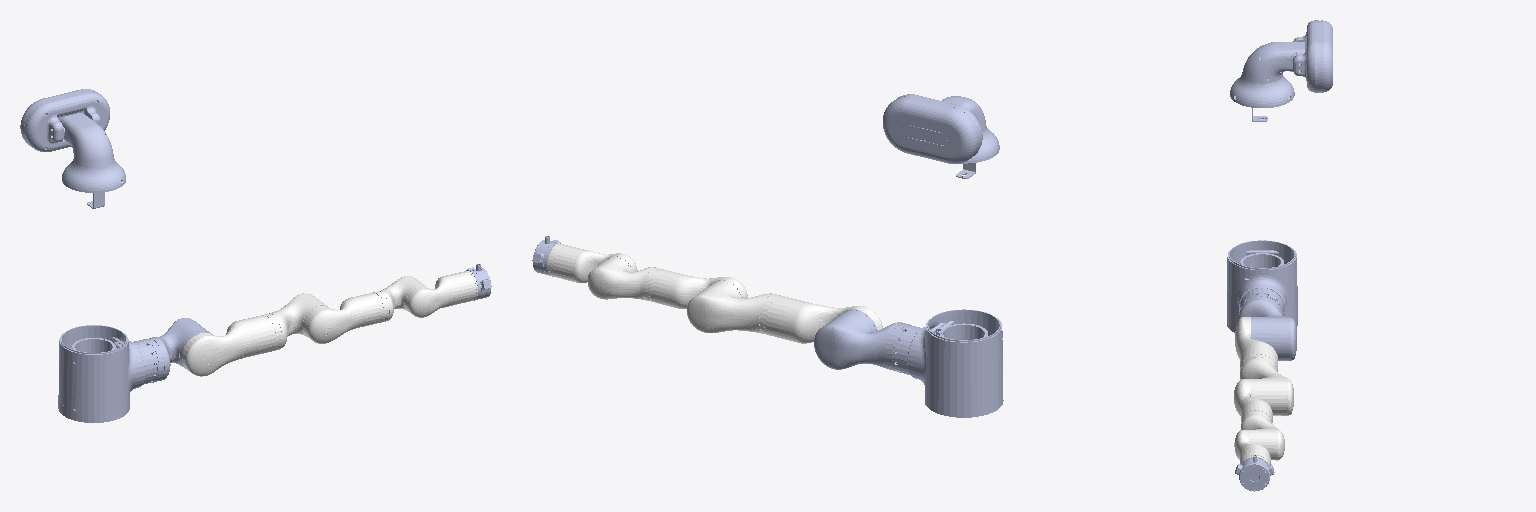
robot.urdf — rm_scr:
<?xml version="1.0" ?>
<!-- =================================================================================== -->
<!-- |    This document was autogenerated by xacro from /home/test/realman_ws/src/rm_scr_robot/rm_scr_description/urdf/rm_scr_description.urdf.xacro | -->
<!-- |    EDITING THIS FILE BY HAND IS NOT RECOMMENDED                                 | -->
<!-- =================================================================================== -->
<robot name="rm_scr">
    <link name="base_link_agv">
        <inertial>
            <origin rpy="0 0 0" xyz="-7.4455E-05 0.010453 0.10719" />
            <mass value="70" />
            <inertia ixx="0.094754" ixy="7.7604E-05" ixz="-9.8149E-05" iyy="0.096474" iyz="-0.0019299" izz="0.16261" />
        </inertial>
        <visual>
            <origin rpy="0 0 0" xyz="0 0 0" />
            <geometry>
                <mesh filename="package://rm_scr_description/meshes/base_link_agv.STL" />
            </geometry>
            <material name="">
                <color rgba="1 1 1 1" />
            </material>
        </visual>
        <collision>
            <origin rpy="0 0 0" xyz="0 0 0" />
            <geometry>
                <mesh filename="package://rm_scr_description/meshes/base_link_agv.STL" />
            </geometry>
        </collision>
    </link>
    <link name="baselink_body">
        <inertial>
            <origin rpy="0 0 0" xyz="-0.0019768 0.004672 0.30125" />
            <mass value="2.581" />
            <inertia ixx="0.05009" ixy="1.8262E-05" ixz="0.0003821" iyy="0.057064" iyz="-4.8542E-06" izz="0.016176" />
        </inertial>
        <visual>
            <origin rpy="0 0 0" xyz="0 0 0" />
            <geometry>
                <mesh filename="package://rm_scr_description/meshes/baselink_body.STL" />
            </geometry>
            <material name="">
                <color rgba="0.79216 0.81961 0.93333 1" />
            </material>
        </visual>
        <collision>
            <origin rpy="0 0 0" xyz="0 0 0" />
            <geometry>
                <mesh filename="package://rm_scr_description/meshes/baselink_body.STL" />
            </geometry>
        </collision>
    </link>
    <joint name="joint_fixed_body" type="fixed">
        <origin rpy="0 0 0" xyz="0 0 0.2791" />
        <parent link="base_link_agv" />
        <child link="baselink_body" />
        <axis xyz="0 0 0" />
    </joint>
    <link name="link_arm_rotary">
        <inertial>
            <origin rpy="0 0 0" xyz="-0.026988 -0.0010423 -0.00059756" />
            <mass value="0.31825" />
            <inertia ixx="0.00019457" ixy="-1.4002E-05" ixz="-8.0276E-06" iyy="0.00027255" iyz="-1.9841E-06" izz="0.00027487" />
        </inertial>
        <visual>
            <origin rpy="0 0 0" xyz="0 0 0" />
            <geometry>
                <mesh filename="package://rm_scr_description/meshes/link_arm_rotary.STL" />
            </geometry>
            <material name="">
                <color rgba="0.50196 0.50196 0.50196 1" />
            </material>
        </visual>
        <collision>
            <origin rpy="0 0 0" xyz="0 0 0" />
            <geometry>
                <mesh filename="package://rm_scr_description/meshes/link_arm_rotary.STL" />
            </geometry>
        </collision>
    </link>
    <joint name="joint_arm_rotary" type="revolute">
        <origin rpy="0.0074999 1.5708 0" xyz="0 0 0.489" />
        <parent link="baselink_body" />
        <child link="link_arm_rotary" />
        <axis xyz="-1 0 0" />
        <limit effort="100" lower="-1.3" upper="1.3" velocity="1" />
        <dynamics damping="50" friction="1" />
    </joint>
    <link name="link_arm_connector">
        <inertial>
            <origin rpy="0 0 0" xyz="0.0011319 0.00023344 0.04223" />
            <mass value="0.425" />
            <inertia ixx="0.0011766" ixy="1.2008E-06" ixz="1.7955E-05" iyy="0.0014259" iyz="-1.0264E-05" izz="0.00079079" />
        </inertial>
        <visual>
            <origin rpy="0 0 0" xyz="0 0 0" />
            <geometry>
                <mesh filename="package://rm_scr_description/meshes/link_arm_connector.STL" />
            </geometry>
            <material name="">
                <color rgba="0.79216 0.81961 0.93333 1" />
            </material>
        </visual>
        <collision>
            <origin rpy="0 0 0" xyz="0 0 0" />
            <geometry>
                <mesh filename="package://rm_scr_description/meshes/link_arm_connector.STL" />
            </geometry>
        </collision>
    </link>
    <joint name="fixed_arm_connector" type="fixed">
        <origin rpy="0.0096722 0 0" xyz="-0.065 0.00021859 -0.022599" />
        <parent link="link_arm_rotary" />
        <child link="link_arm_connector" />
        <axis xyz="0 0 0" />
    </joint>
    <link name="arm_link1">
        <inertial>
            <origin rpy="0 0 0" xyz="2.8044E-07 0.021108 -0.025186" />
            <mass value="0.59356" />
            <inertia ixx="0.0012661" ixy="-1.0792E-08" ixz="-8.0898E-09" iyy="0.0011817" iyz="-0.00021122" izz="0.00056135" />
        </inertial>
        <visual>
            <origin rpy="0 0 0" xyz="0 0 0" />
            <geometry>
                <mesh filename="package://rm_scr_description/meshes/arm_link1.STL" />
            </geometry>
            <material name="">
                <color rgba="0.79216 0.81961 0.93333 1" />
            </material>
        </visual>
        <collision>
            <origin rpy="0 0 0" xyz="0 0 0" />
            <geometry>
                <mesh filename="package://rm_scr_description/meshes/arm_link1.STL" />
            </geometry>
        </collision>
    </link>
    <joint name="joint1" type="revolute">
        <origin rpy="0 0 0" xyz="0 0 0.2405" />
        <parent link="link_arm_connector" />
        <child link="arm_link1" />
        <axis xyz="0 0 1" />
        <limit effort="100" lower="-3.107" upper="3.107" velocity="1" />
    </joint>
    <link name="arm_link2">
        <inertial>
            <origin rpy="0 0 0" xyz="0.15226 6.0104E-07 -0.0062025" />
            <mass value="0.86418" />
            <inertia ixx="0.00063254" ixy="-5.9926E-09" ixz="0.00042163" iyy="0.0020527" iyz="1.854E-09" izz="0.0019528" />
        </inertial>
        <visual>
            <origin rpy="0 0 0" xyz="0 0 0" />
            <geometry>
                <mesh filename="package://rm_scr_description/meshes/arm_link2.STL" />
            </geometry>
            <material name="">
                <color rgba="1 1 1 1" />
            </material>
        </visual>
        <collision>
            <origin rpy="0 0 0" xyz="0 0 0" />
            <geometry>
                <mesh filename="package://rm_scr_description/meshes/arm_link2.STL" />
            </geometry>
        </collision>
    </link>
    <joint name="joint2" type="revolute">
        <origin rpy="1.5708 -1.5708 0" xyz="0 0 0" />
        <parent link="arm_link1" />
        <child link="arm_link2" />
        <axis xyz="0 0 1" />
        <limit effort="100" lower="-2.269" upper="2.269" velocity="1" />
    </joint>
    <link name="arm_link3">
        <inertial>
            <origin rpy="0 0 0" xyz="5.0411E-06 -0.059593 0.010569" />
            <mass value="0.28963" />
            <inertia ixx="0.00063737" ixy="-7.0502E-08" ixz="-3.8658E-08" iyy="0.00015648" iyz="-0.00014461" izz="0.00061418" />
        </inertial>
        <visual>
            <origin rpy="0 0 0" xyz="0 0 0" />
            <geometry>
                <mesh filename="package://rm_scr_description/meshes/arm_link3.STL" />
            </geometry>
            <material name="">
                <color rgba="1 1 1 1" />
            </material>
        </visual>
        <collision>
            <origin rpy="0 0 0" xyz="0 0 0" />
            <geometry>
                <mesh filename="package://rm_scr_description/meshes/arm_link3.STL" />
            </geometry>
        </collision>
    </link>
    <joint name="joint3" type="revolute">
        <origin rpy="0 0 1.5708" xyz="0.256 0 0" />
        <parent link="arm_link2" />
        <child link="arm_link3" />
        <axis xyz="0 0 1" />
        <limit effort="100" lower="-2.356" upper="2.356" velocity="1" />
    </joint>
    <link name="arm_link4">
        <inertial>
            <origin rpy="0 0 0" xyz="1.1013E-06 -0.018041 -0.021541" />
            <mass value="0.2394" />
            <inertia ixx="0.00028594" ixy="3.0699E-09" ixz="-2.2186E-09" iyy="0.00026273" iyz="4.4237E-05" izz="0.00011989" />
        </inertial>
        <visual>
            <origin rpy="0 0 0" xyz="0 0 0" />
            <geometry>
                <mesh filename="package://rm_scr_description/meshes/arm_link4.STL" />
            </geometry>
            <material name="">
                <color rgba="1 1 1 1" />
            </material>
        </visual>
        <collision>
            <origin rpy="0 0 0" xyz="0 0 0" />
            <geometry>
                <mesh filename="package://rm_scr_description/meshes/arm_link4.STL" />
            </geometry>
        </collision>
    </link>
    <joint name="joint4" type="revolute">
        <origin rpy="1.5708 0 0" xyz="0 -0.21 0" />
        <parent link="arm_link3" />
        <child link="arm_link4" />
        <axis xyz="0 0 1" />
        <limit effort="100" lower="-3.107" upper="3.107" velocity="1" />
    </joint>
    <link name="arm_link5">
        <inertial>
            <origin rpy="0 0 0" xyz="3.4603E-06 -0.059382 0.0073678" />
            <mass value="0.21879" />
            <inertia ixx="0.00035053" ixy="-3.168E-08" ixz="-1.7437E-08" iyy="0.00010492" iyz="-7.824E-05" izz="0.00033447" />
        </inertial>
        <visual>
            <origin rpy="0 0 0" xyz="0 0 0" />
            <geometry>
                <mesh filename="package://rm_scr_description/meshes/arm_link5.STL" />
            </geometry>
            <material name="">
                <color rgba="1 1 1 1" />
            </material>
        </visual>
        <collision>
            <origin rpy="0 0 0" xyz="0 0 0" />
            <geometry>
                <mesh filename="package://rm_scr_description/meshes/arm_link5.STL" />
            </geometry>
        </collision>
    </link>
    <joint name="joint5" type="revolute">
        <origin rpy="-1.5708 0 0" xyz="0 0 0" />
        <parent link="arm_link4" />
        <child link="arm_link5" />
        <axis xyz="0 0 1" />
        <limit effort="100" lower="-2.234" upper="2.234" velocity="1" />
    </joint>
    <link name="arm_link6">
        <inertial>
            <origin rpy="0 0 0" xyz="0.00081643 1.3288E-05 -0.012705" />
            <mass value="0.065035" />
            <inertia ixx="2.1143E-05" ixy="-2.2878E-08" ixz="-2.5601E-08" iyy="1.811E-05" iyz="-1.0178E-08" izz="3.19E-05" />
        </inertial>
        <visual>
            <origin rpy="0 0 0" xyz="0 0 0" />
            <geometry>
                <mesh filename="package://rm_scr_description/meshes/arm_link6.STL" />
            </geometry>
            <material name="">
                <color rgba="0.79216 0.81961 0.93333 1" />
            </material>
        </visual>
        <collision>
            <origin rpy="0 0 0" xyz="0 0 0" />
            <geometry>
                <mesh filename="package://rm_scr_description/meshes/arm_link6.STL" />
            </geometry>
        </collision>
    </link>
    <joint name="joint6" type="revolute">
        <origin rpy="1.5708 0 0" xyz="0 -0.144 0" />
        <parent link="arm_link5" />
        <child link="arm_link6" />
        <axis xyz="0 0 1" />
        <limit effort="100" lower="-6.283" upper="6.283" velocity="1" />
    </joint>
    <link name="arm_link_hand">
        <inertial>
            <origin rpy="0 0 0" xyz="3.3314E-07 -9.9835E-05 0.00875" />
            <mass value="0.034397" />
            <inertia ixx="7.301E-06" ixy="1.4405E-08" ixz="-1.2054E-10" iyy="7.3591E-06" iyz="-8.1085E-09" izz="1.3696E-05" />
        </inertial>
        <visual>
            <origin rpy="0 0 0" xyz="0 0 0" />
            <geometry>
                <mesh filename="package://rm_scr_description/meshes/arm_link_hand.STL" />
            </geometry>
            <material name="">
                <color rgba="0.79216 0.81961 0.93333 1" />
            </material>
        </visual>
        <collision>
            <origin rpy="0 0 0" xyz="0 0 0" />
            <geometry>
                <mesh filename="package://rm_scr_description/meshes/arm_link_hand.STL" />
            </geometry>
        </collision>
    </link>
    <joint name="joint_fixed_hand" type="fixed">
        <origin rpy="0 0 0" xyz="0 0 0" />
        <parent link="arm_link6" />
        <child link="arm_link_hand" />
        <axis xyz="0 0 0" />
    </joint>
    <link name="head_yaw_link">
        <inertial>
            <origin rpy="0 0 0" xyz="-0.10343 0.024916 -7.6083E-05" />
            <mass value="0.15466" />
            <inertia ixx="0.00016049" ixy="4.5844E-05" ixz="2.6504E-07" iyy="0.00015344" iyz="-2.0817E-07" izz="0.00025161" />
        </inertial>
        <visual>
            <origin rpy="0 0 0" xyz="0 0 0" />
            <geometry>
                <mesh filename="package://rm_scr_description/meshes/head_yaw_link.STL" />
            </geometry>
            <material name="">
                <color rgba="0.79216 0.81961 0.93333 1" />
            </material>
        </visual>
        <collision>
            <origin rpy="0 0 0" xyz="0 0 0" />
            <geometry>
                <mesh filename="package://rm_scr_description/meshes/head_yaw_link.STL" />
            </geometry>
        </collision>
    </link>
    <joint name="joint_head_yaw" type="fixed">
        <origin rpy="0 1.5708 0" xyz="0 0 0.903" />
        <parent link="baselink_body" />
        <child link="head_yaw_link" />
        <axis xyz="-1 0 0" />
    </joint>
    <link name="head_pitch_link">
        <inertial>
            <origin rpy="0 0 0" xyz="-0.00021776 0.035749 -0.032433" />
            <mass value="0.19639" />
            <inertia ixx="0.00039276" ixy="-2.6633E-07" ixz="7.8221E-07" iyy="0.00049944" iyz="-2.5639E-07" izz="0.000142" />
        </inertial>
        <visual>
            <origin rpy="0 0 0" xyz="0 0 0" />
            <geometry>
                <mesh filename="package://rm_scr_description/meshes/head_pitch_link.STL" />
            </geometry>
            <material name="">
                <color rgba="0.79216 0.81961 0.93333 1" />
            </material>
        </visual>
        <collision>
            <origin rpy="0 0 0" xyz="0 0 0" />
            <geometry>
                <mesh filename="package://rm_scr_description/meshes/head_pitch_link.STL" />
            </geometry>
        </collision>
    </link>
    <joint name="joint_pitch_yaw" type="fixed">
        <origin rpy="0 0 0" xyz="-0.127 0.07 0.0315" />
        <parent link="head_yaw_link" />
        <child link="head_pitch_link" />
        <axis xyz="0 0 -1" />
    </joint>
    <transmission name="tran1">
        <type>transmission_interface/SimpleTransmission</type>
        <joint name="joint1">
            <hardwareInterface>hardware_interface/PositionJointInterface</hardwareInterface>
        </joint>
        <actuator name="motor1">
            <hardwareInterface>hardware_interface/PositionJointInterface</hardwareInterface>
            <mechanicalReduction>1</mechanicalReduction>
        </actuator>
    </transmission>
    <transmission name="tran1">
        <type>transmission_interface/SimpleTransmission</type>
        <joint name="joint2">
            <hardwareInterface>hardware_interface/PositionJointInterface</hardwareInterface>
        </joint>
        <actuator name="motor1">
            <hardwareInterface>hardware_interface/PositionJointInterface</hardwareInterface>
            <mechanicalReduction>1</mechanicalReduction>
        </actuator>
    </transmission>
    <transmission name="tran1">
        <type>transmission_interface/SimpleTransmission</type>
        <joint name="joint3">
            <hardwareInterface>hardware_interface/PositionJointInterface</hardwareInterface>
        </joint>
        <actuator name="motor1">
            <hardwareInterface>hardware_interface/PositionJointInterface</hardwareInterface>
            <mechanicalReduction>1</mechanicalReduction>
        </actuator>
    </transmission>
    <transmission name="tran1">
        <type>transmission_interface/SimpleTransmission</type>
        <joint name="joint4">
            <hardwareInterface>hardware_interface/PositionJointInterface</hardwareInterface>
        </joint>
        <actuator name="motor1">
            <hardwareInterface>hardware_interface/PositionJointInterface</hardwareInterface>
            <mechanicalReduction>1</mechanicalReduction>
        </actuator>
    </transmission>
    <transmission name="tran1">
        <type>transmission_interface/SimpleTransmission</type>
        <joint name="joint5">
            <hardwareInterface>hardware_interface/PositionJointInterface</hardwareInterface>
        </joint>
        <actuator name="motor1">
            <hardwareInterface>hardware_interface/PositionJointInterface</hardwareInterface>
            <mechanicalReduction>1</mechanicalReduction>
        </actuator>
    </transmission>
    <transmission name="tran1">
        <type>transmission_interface/SimpleTransmission</type>
        <joint name="joint6">
            <hardwareInterface>hardware_interface/PositionJointInterface</hardwareInterface>
        </joint>
        <actuator name="motor1">
            <hardwareInterface>hardware_interface/PositionJointInterface</hardwareInterface>
            <mechanicalReduction>1</mechanicalReduction>
        </actuator>
    </transmission>
    <!-- ros_control plugin -->
    <gazebo>
        <plugin filename="libgazebo_ros_control.so" name="gazebo_ros_control">
            <robotNamespace>/arm</robotNamespace>
            <robotSimType>gazebo_ros_control/DefaultRobotHWSim</robotSimType>
            <legacyModeNS>true</legacyModeNS>
        </plugin>
    </gazebo>
    <transmission name="trans_joint_arm_rotary">
        <type>transmission_interface/SimpleTransmission</type>
        <joint name="joint_arm_rotary">
            <hardwareInterface>hardware_interface/EffortJointInterface</hardwareInterface>
        </joint>
        <actuator name="joint_arm_rotary_motor">
            <hardwareInterface>hardware_interface/EffortJointInterface</hardwareInterface>
            <mechanicalReduction>1</mechanicalReduction>
        </actuator>
    </transmission>
</robot>

--- Render facts (derived) ---
Views: 3 orthographic renders of the robot side by side, from view 1: azimuth 30°, elevation 25°; view 2: azimuth 150°, elevation 25°; view 3: azimuth 270°, elevation 25°.
Model rm_scr with 13 links and 12 joints (7 revolute, 5 fixed), rooted at base_link_agv, posed every joint at zero.
Links seen in each view (by area): view 1: link_arm_connector, arm_link2, head_yaw_link, head_pitch_link, arm_link3, arm_link5, arm_link1, arm_link4; view 2: link_arm_connector, arm_link2, head_pitch_link, arm_link1, arm_link4, arm_link3, arm_link5, head_yaw_link, arm_link6; view 3: link_arm_connector, head_yaw_link, arm_link2, arm_link1, head_pitch_link, arm_link4, arm_link6, arm_link3, arm_link5.
Link boxes in pixels (box(x1,y1,x2,y2)): link_arm_connector: box(58, 325, 158, 422); arm_link2: box(182, 293, 328, 376); head_yaw_link: box(60, 113, 125, 208); head_pitch_link: box(20, 89, 109, 151); arm_link3: box(305, 292, 385, 343); arm_link5: box(406, 271, 477, 317); arm_link1: box(145, 318, 212, 382); arm_link4: box(377, 276, 425, 321); link_arm_connector: box(892, 309, 1003, 417); arm_link2: box(687, 280, 882, 343); head_pitch_link: box(883, 94, 982, 163); arm_link1: box(814, 309, 909, 370); arm_link4: box(588, 256, 658, 300); arm_link3: box(647, 268, 747, 308); arm_link5: box(547, 243, 637, 282); head_yaw_link: box(942, 96, 999, 178); arm_link6: box(532, 236, 560, 276); link_arm_connector: box(1227, 240, 1297, 332); head_yaw_link: box(1230, 42, 1304, 121); arm_link2: box(1235, 317, 1293, 415); arm_link1: box(1239, 296, 1296, 360); head_pitch_link: box(1293, 20, 1332, 92); arm_link4: box(1241, 412, 1284, 460); arm_link6: box(1235, 455, 1274, 491); arm_link3: box(1234, 379, 1272, 422); arm_link5: box(1234, 430, 1270, 464).
Bounding box of the posed robot: 0.9182 × 0.1983 × 0.6043 m (x, y, z).
Meshes: 13 distinct files referenced, 10 mesh visuals loaded (10 binary STL); not drawn: 3 (reference not matched to a file when rendering).
